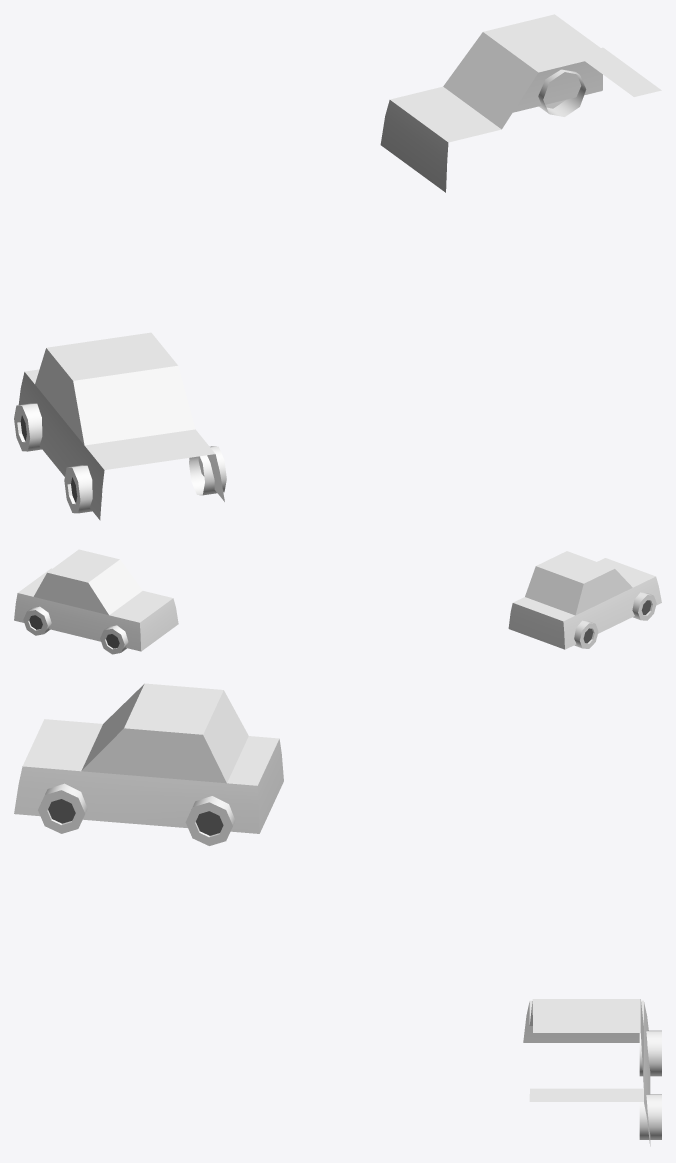
Rendered from voiture.fbx.
The picture shows the model from 3 angles, top to bottom: view 1: azimuth 30°, elevation 25°; view 2: azimuth 150°, elevation 25°; view 3: azimuth 270°, elevation 25°; orthographic projection. The views are drawn at different scales.
Visible parts, largest first — view 1: voiture; view 2: voiture; view 3: voiture.
Boxes of the visible parts, left/top/right/bottom form: voiture: left=14, top=14, right=661, bottom=520; voiture: left=14, top=549, right=661, bottom=654; voiture: left=14, top=683, right=661, bottom=1146.
Bounding box in the file's own units: 310 × 37.72 × 218.
